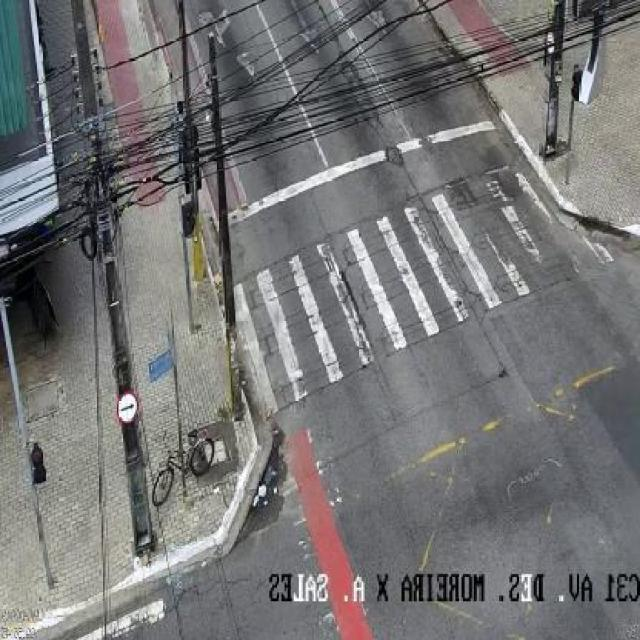Cycle: (152, 430, 217, 504)
